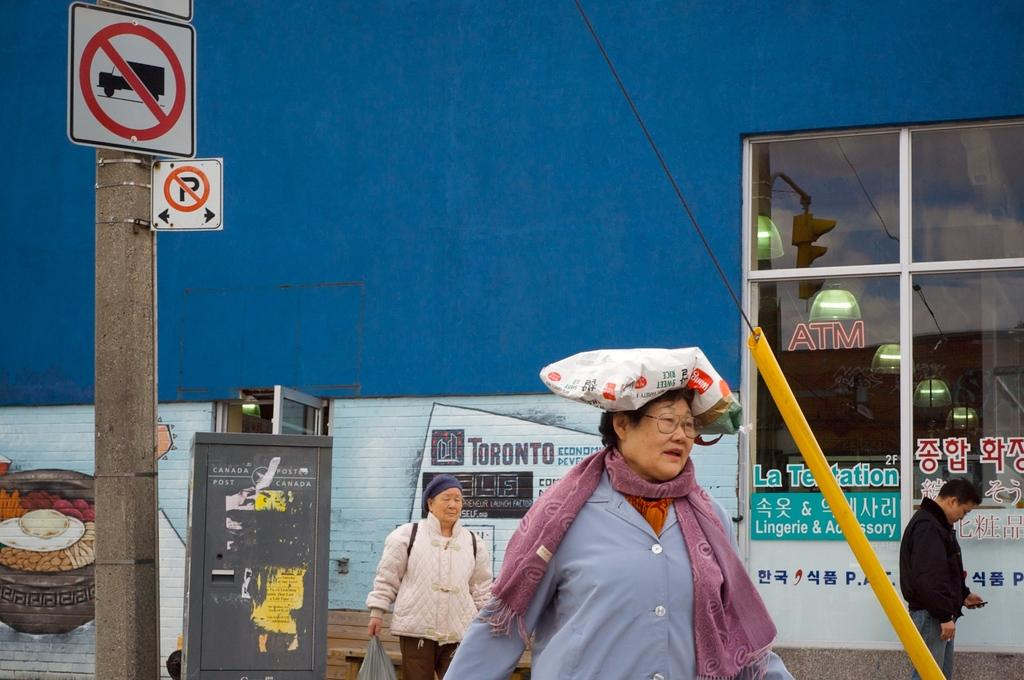Hat: (422, 476, 466, 499)
